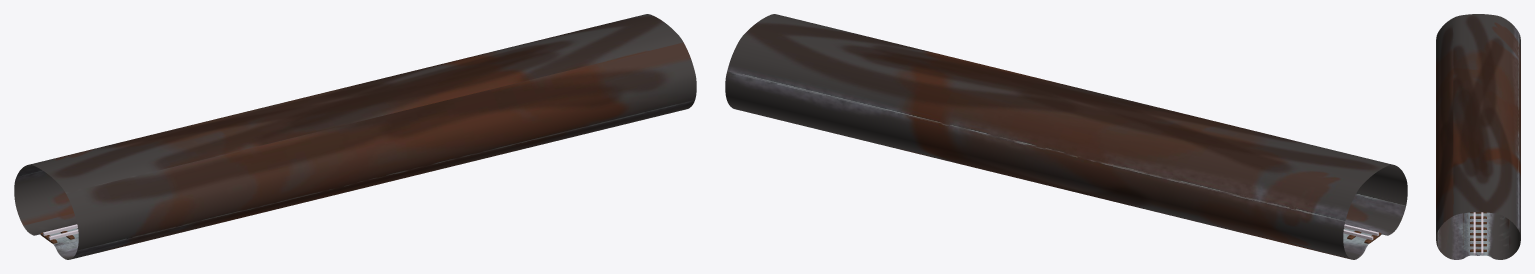
File: track_base.fbx
3 renders of one model, left to right at view 1: azimuth 30°, elevation 25°; view 2: azimuth 150°, elevation 25°; view 3: azimuth 270°, elevation 25°, orthographic. The views are drawn at different scales.
Parts seen in each view (by area): view 1: Tunnel; view 2: Tunnel; view 3: Tunnel, Plank, Track1.
Boxes of the visible parts, bbox=[...] form: Tunnel: bbox=[14, 14, 696, 259]; Tunnel: bbox=[725, 14, 1407, 259]; Tunnel: bbox=[1436, 14, 1520, 259]; Plank: bbox=[1470, 212, 1486, 251]; Track1: bbox=[1473, 212, 1483, 254].
Size of the model in its own units: 5000 by 562 by 905.
